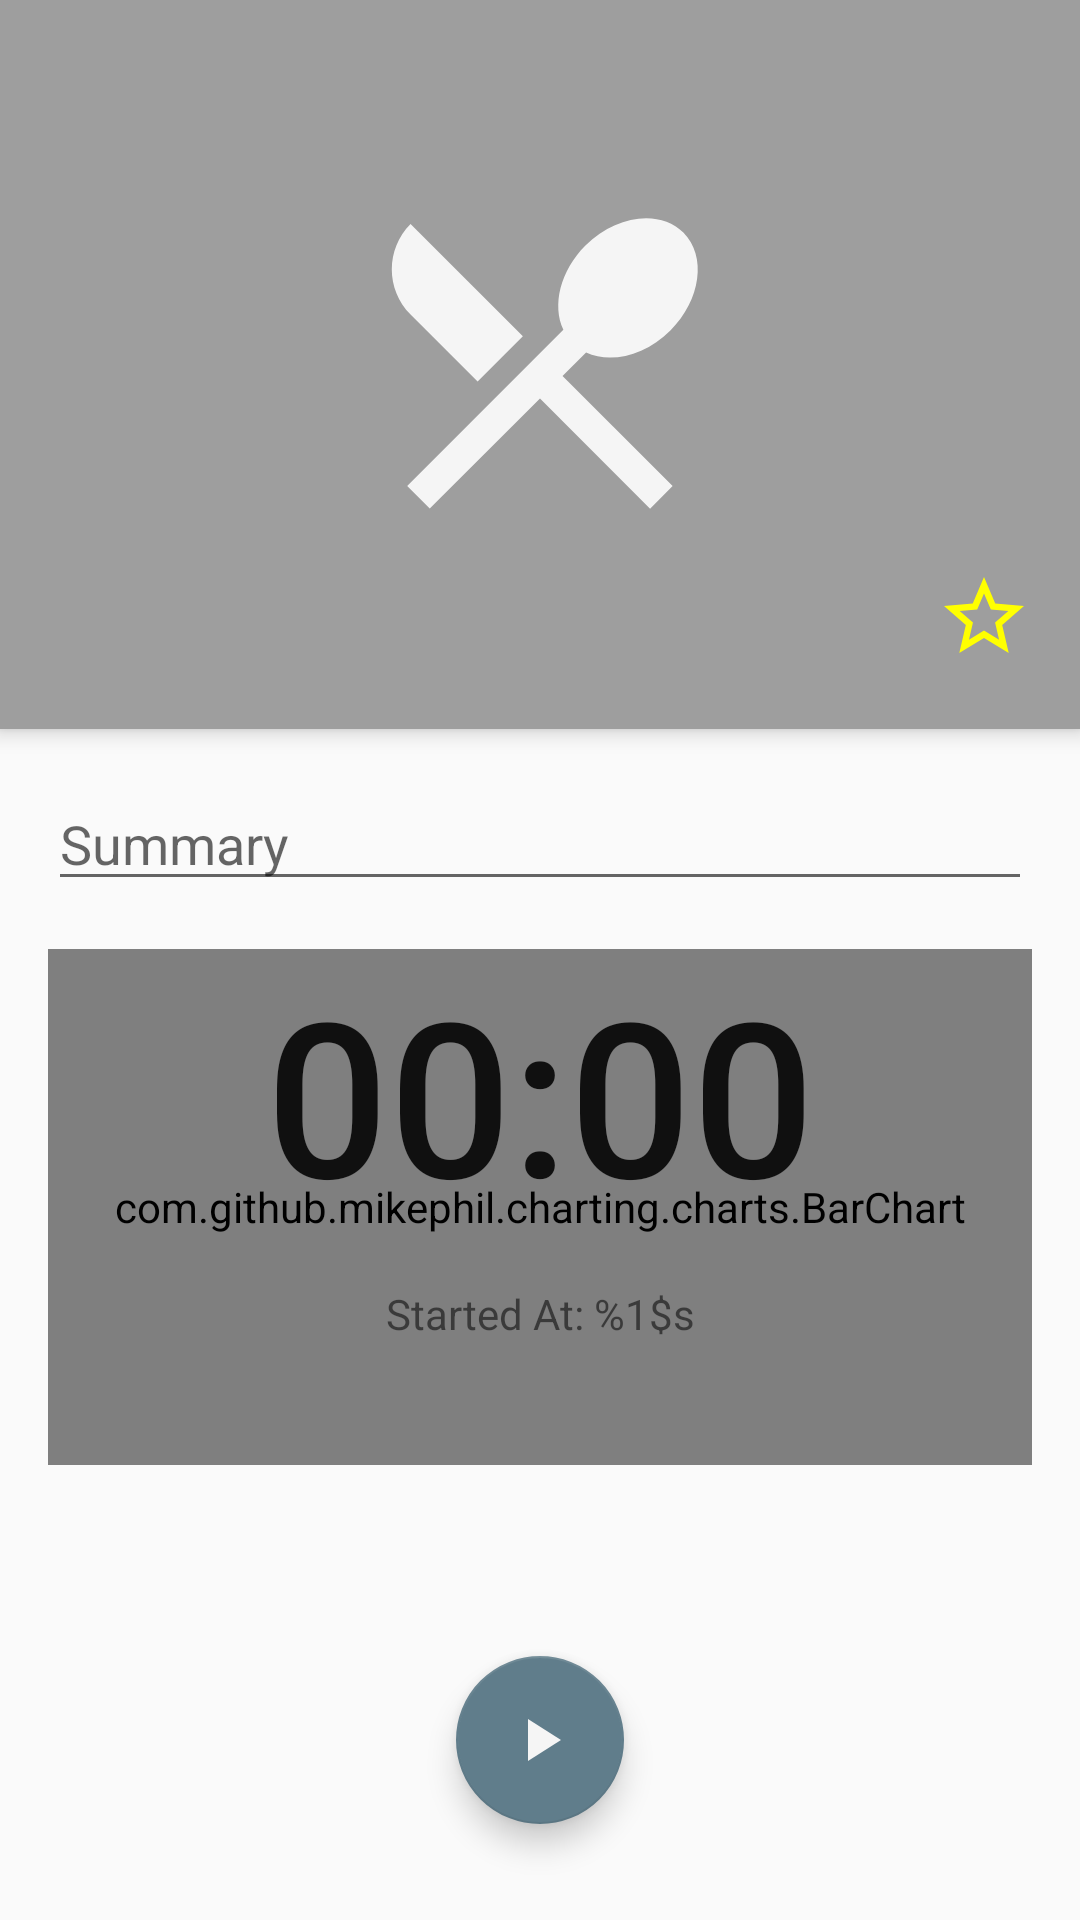

Icons on this 1080 × 1920 Android screen, each with the point to tap as [x,y]:
category eating: [545,363]
no favorite: [984,615]
start: [540,1740]
